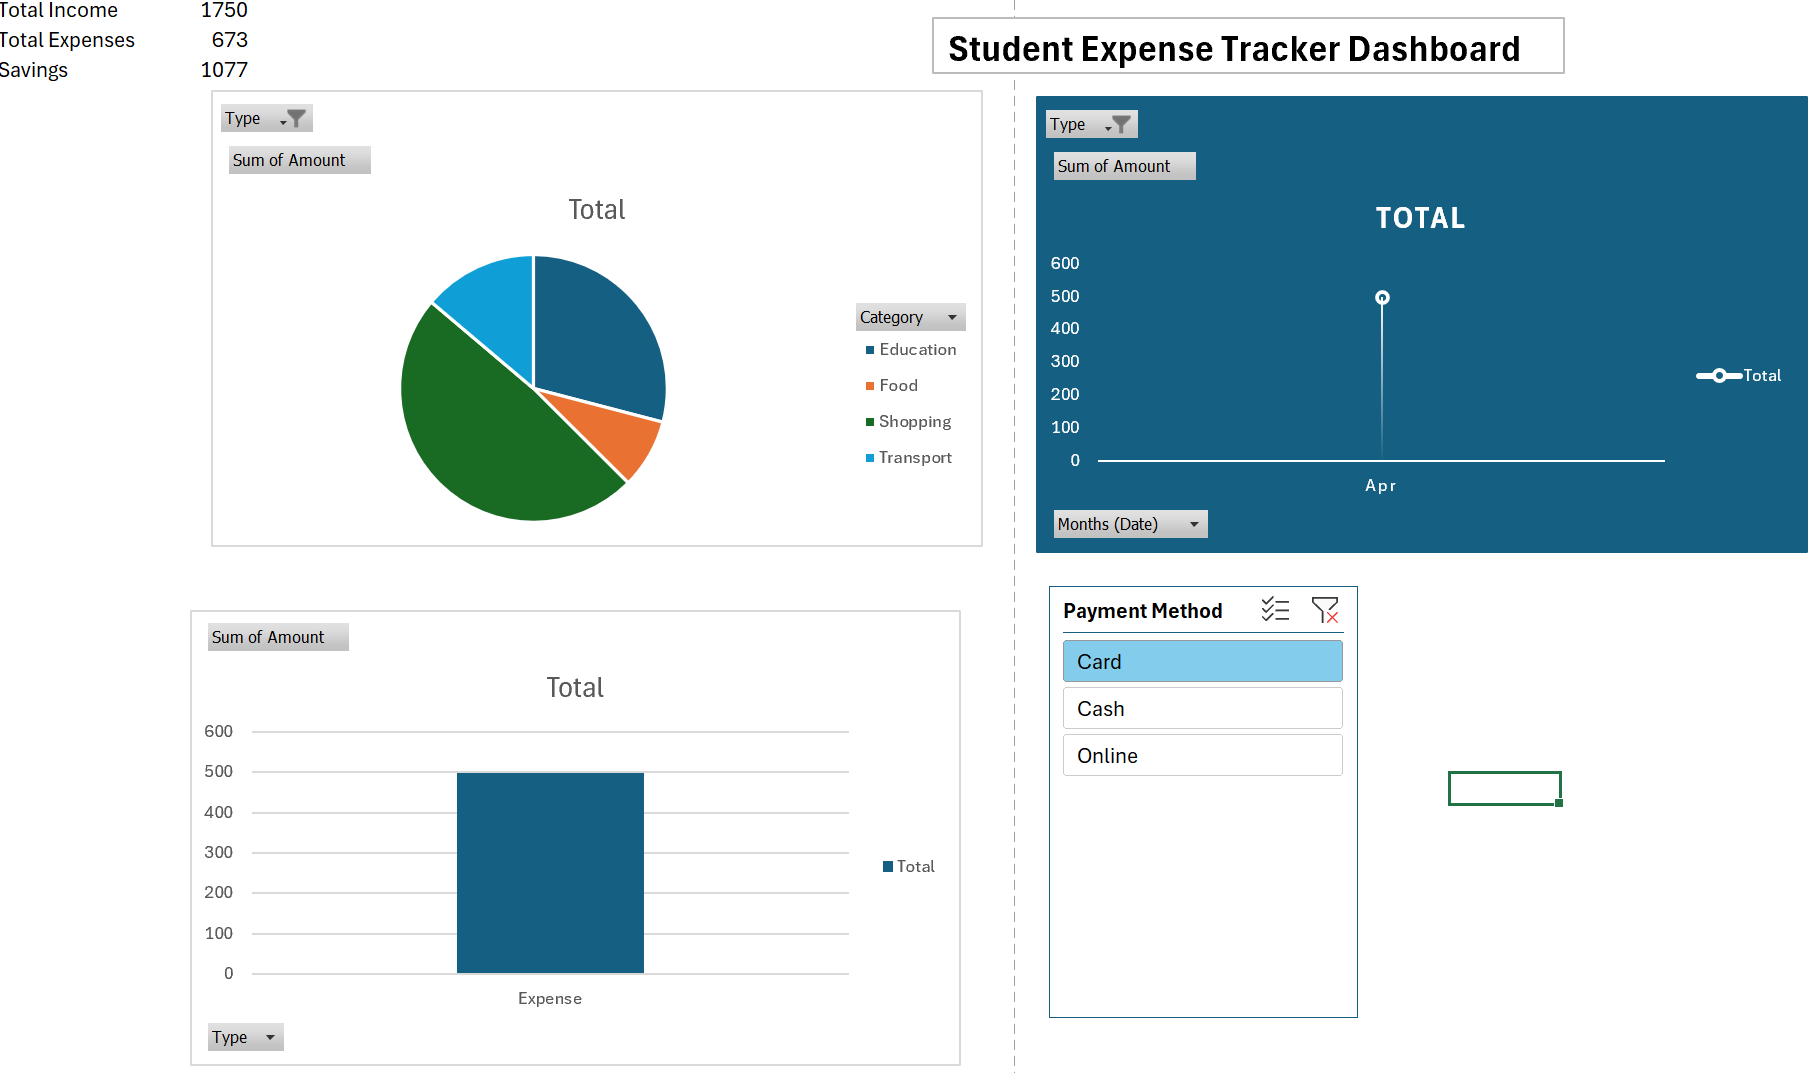

This screenshot's page, from the dashboard's own definition file:
{"tool":"powerbi","page":{"name":"Student Expense Tracker Dashboard","canvas":[1280,720],"ordinal":0},"visuals":[{"type":"lineChart","fields":{"Category":["Expenses_Table.Date.Variation.Date Hierarchy.Year","Expenses_Table.Date.Variation.Date Hierarchy.Quarter","Expenses_Table.Date.Variation.Date Hierarchy.Month","Expenses_Table.Date.Variation.Date Hierarchy.Day"],"Y":["Sum(Expenses_Table.Amount)"]},"box":[464.8,174.8,449.9,382.3],"z":0},{"type":"pieChart","fields":{"Category":["Expenses_Table.Category"],"Y":["Sum(Expenses_Table.Amount)"]},"box":[9.9,160.9,407.2,265.2],"z":1000},{"type":"clusteredBarChart","fields":{"Category":["Expenses_Table.Type"],"Y":["Sum(Expenses_Table.Amount)"]},"box":[0,478.7,426,210.5],"z":2000},{"type":"cardVisual","title":"Total Income","fields":{"Data":["Sum(Expenses_Table.Amount)"]},"box":[9.9,19.9,172.8,120.2],"z":3000},{"type":"cardVisual","title":"Total Expenses","fields":{"Data":["Sum(Expenses_Table.Amount)"]},"box":[233.4,19.9,172.8,120.2],"z":4000},{"type":"cardVisual","title":"Savings","fields":{"Data":["Expenses_Table.Savings"]},"box":[464.4,20,148.9,127.8],"z":5000},{"type":"slicer","fields":{"Values":["Expenses_Table.Category","Expenses_Table.Payment Method","Expenses_Table.Date"]},"box":[974.2,246.3,173.8,239.3],"z":6000}]}

Visuals, with their boxes on the page's 1280x720 design canvas (x1, y1, x2, y2). These are canvas units, not pixel positions in the 1813x1073 screenshot, which may show the page scaled, cropped or inside an application window:
lineChart - Expenses_Table.Date.Variation.Date Hierarchy.Year x Expenses_Table.Date.Variation.Date Hierarchy.Quarter: bbox=(465, 175, 915, 557)
pieChart - Expenses_Table.Category x Sum(Expenses_Table.Amount): bbox=(10, 161, 417, 426)
clusteredBarChart - Expenses_Table.Type x Sum(Expenses_Table.Amount): bbox=(0, 479, 426, 689)
"Total Income" cardVisual: bbox=(10, 20, 183, 140)
"Total Expenses" cardVisual: bbox=(233, 20, 406, 140)
"Savings" cardVisual: bbox=(464, 20, 613, 148)
slicer - Expenses_Table.Category x Expenses_Table.Payment Method: bbox=(974, 246, 1148, 486)
